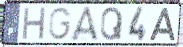4: (126, 5, 148, 43)
A: (68, 5, 101, 43), (148, 7, 177, 41)
G: (48, 6, 73, 41)
H: (21, 6, 48, 42)
Q: (100, 6, 124, 42)
